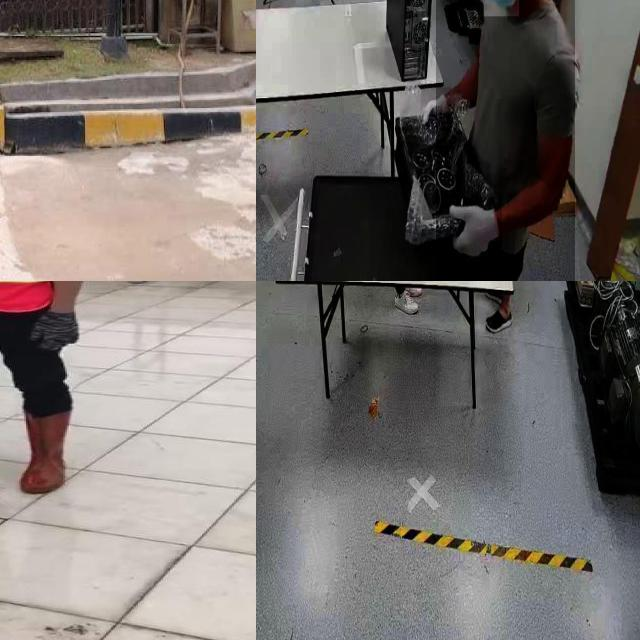boots: (16, 411, 72, 494)
face_mask: (474, 0, 519, 16)
hand_glove: (446, 197, 502, 266), (420, 87, 450, 131)
person: (436, 0, 575, 281), (0, 281, 106, 499)
shoes: (484, 302, 514, 339), (392, 289, 421, 317)
